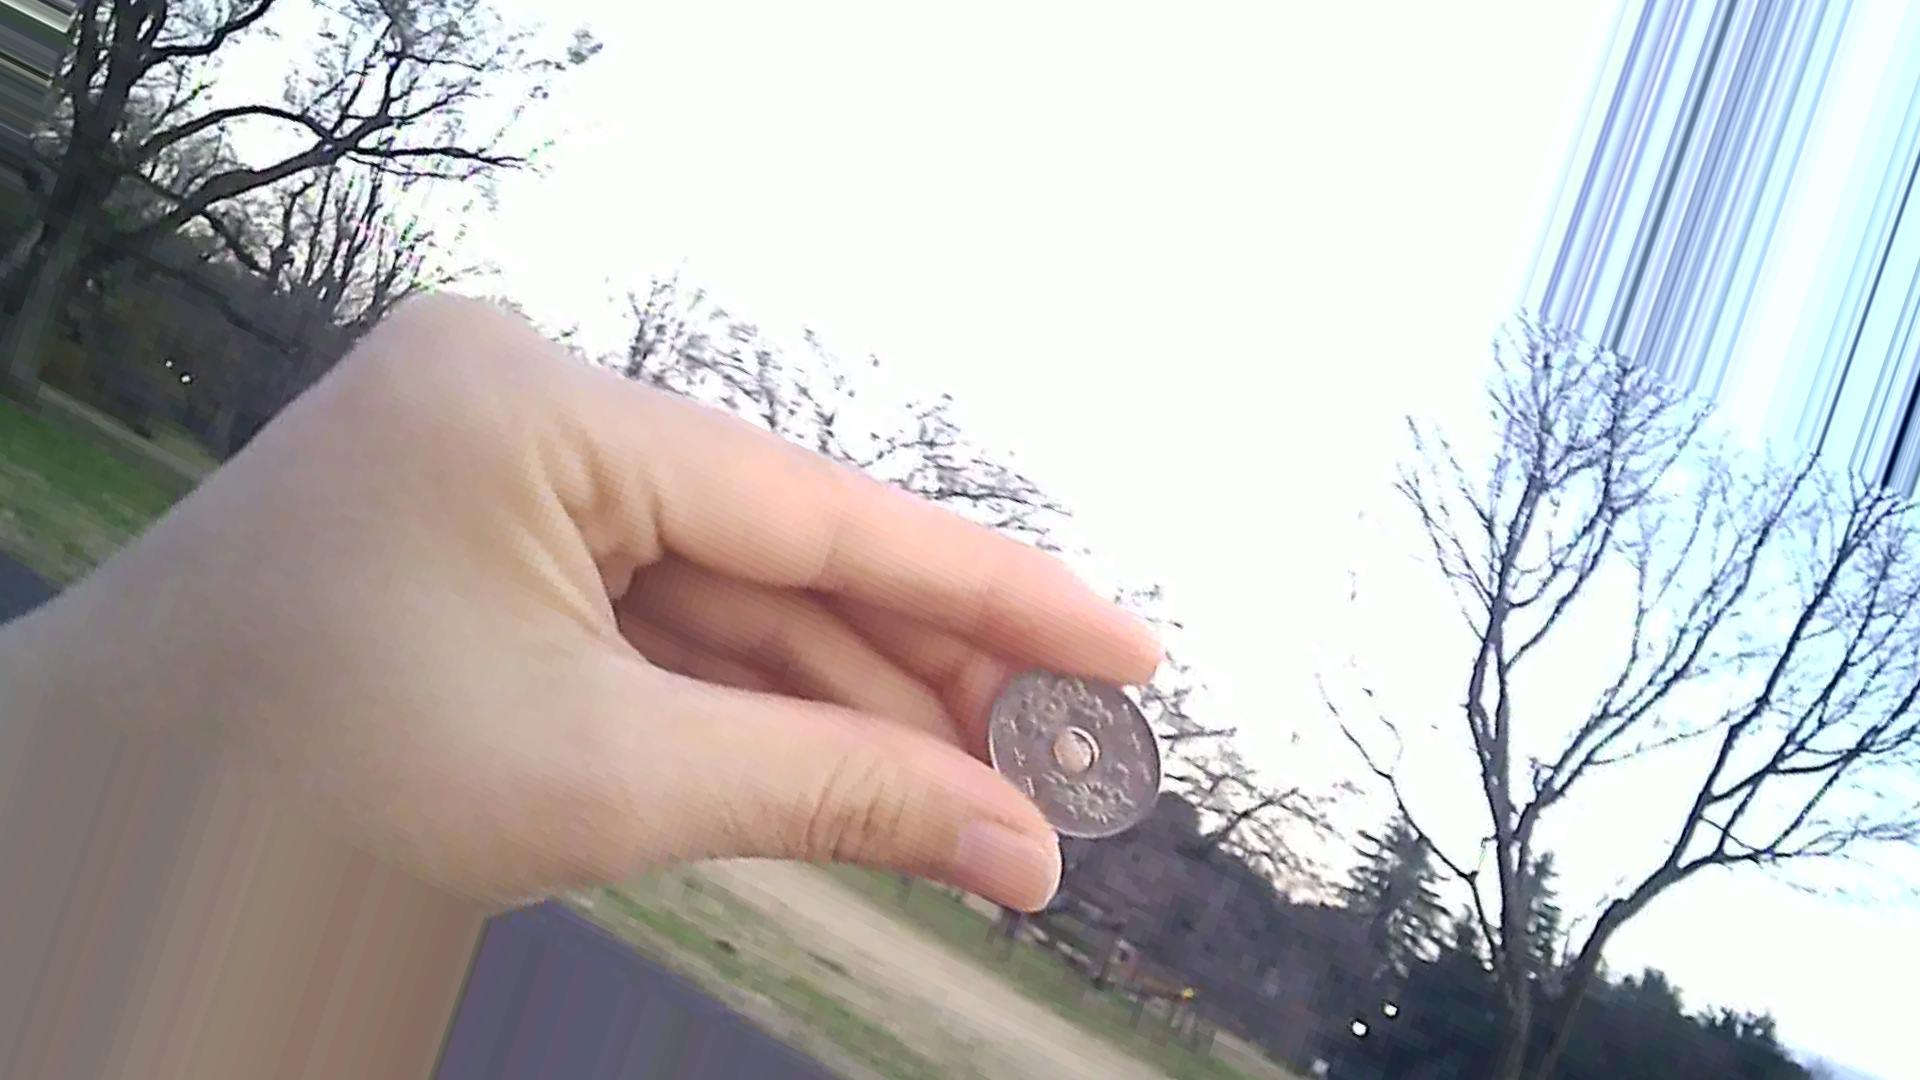50 Yen: (982, 646, 1160, 840)
